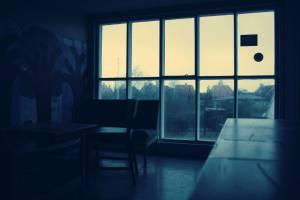window: (94, 9, 281, 146)
